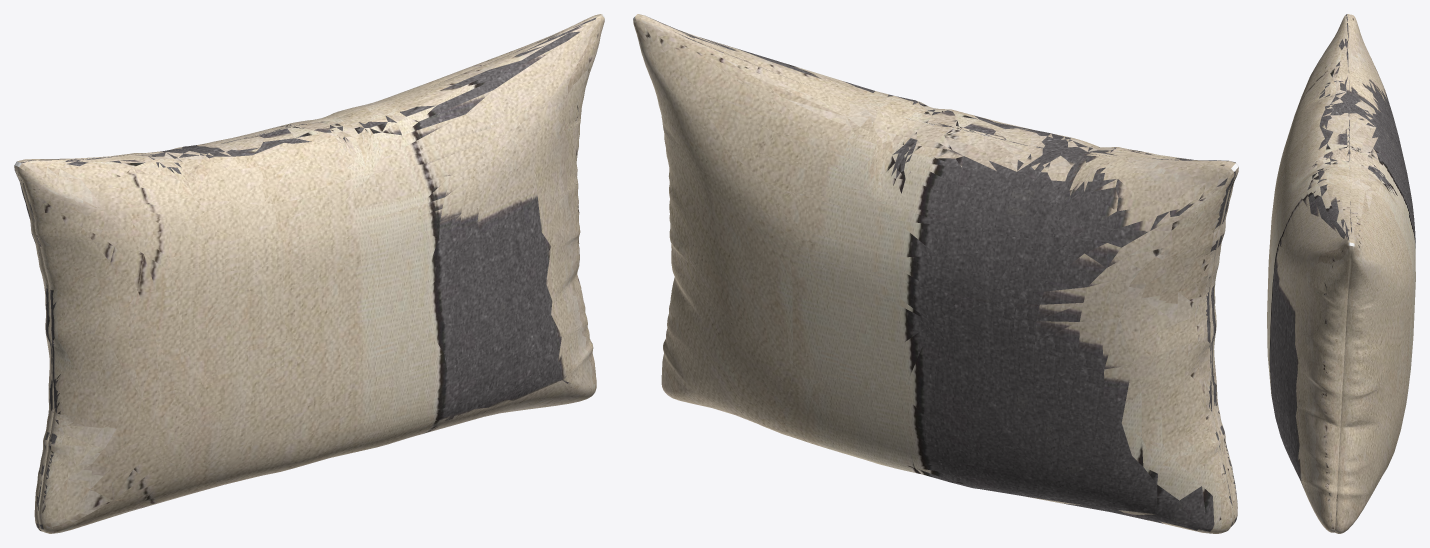
The model's file is Urban_Cushion_Lumbar.glb.
The picture shows the model from 3 angles, left to right: view 1: azimuth 30°, elevation 25°; view 2: azimuth 150°, elevation 25°; view 3: azimuth 270°, elevation 25°; orthographic projection. The views are drawn at different scales.
Parts seen in each view (by area): view 1: Component#10; view 2: Component#10; view 3: Component#10.
Boxes of the visible parts, <box> form: Component#10: <box>14,14,604,533</box>; Component#10: <box>633,14,1238,533</box>; Component#10: <box>1267,14,1415,533</box>.
Size of the model in its own units: 0.6268 by 0.3815 by 0.1686.
2 materials, 1 textured.
